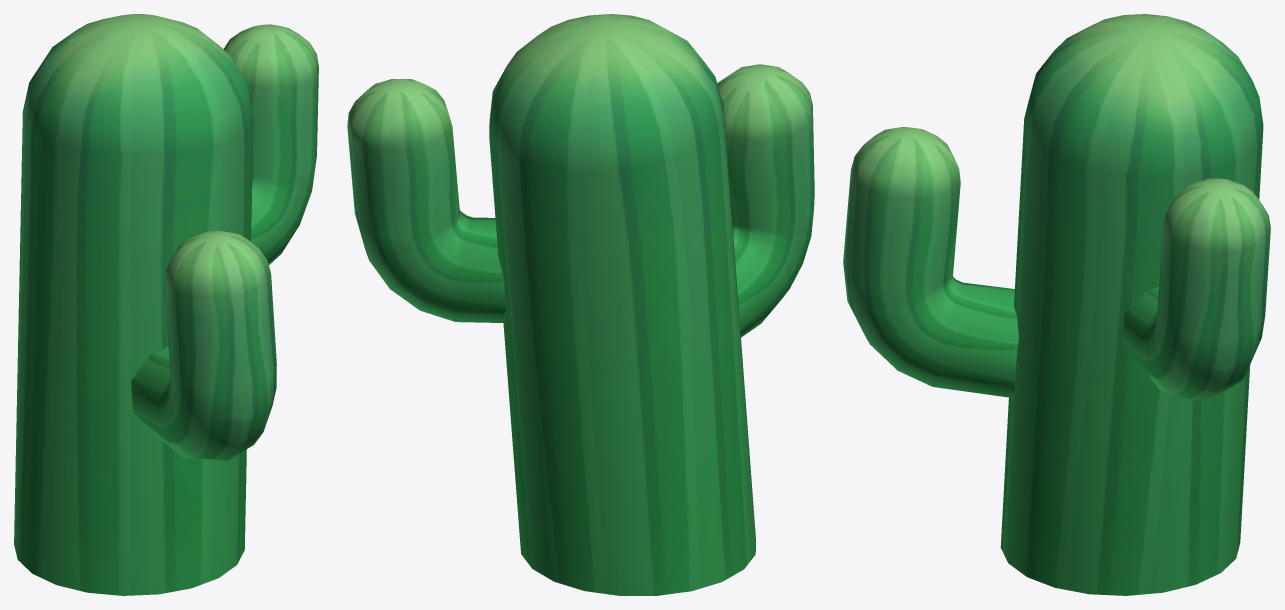
Rendered from Cactus FBX.fbx.
The picture shows the model from 3 angles, left to right: view 1: azimuth 30°, elevation 25°; view 2: azimuth 150°, elevation 25°; view 3: azimuth 270°, elevation 25°; orthographic projection. The views are drawn at different scales.
Parts seen in each view (by area): view 1: Cactus; view 2: Cactus; view 3: Cactus.
Part boxes in pixels (x1,y1,x2,y2): Cactus: (14, 14, 318, 595); Cactus: (347, 14, 814, 595); Cactus: (843, 14, 1270, 595).
Size of the model in its own units: 5.05 by 7.46 by 5.48.
